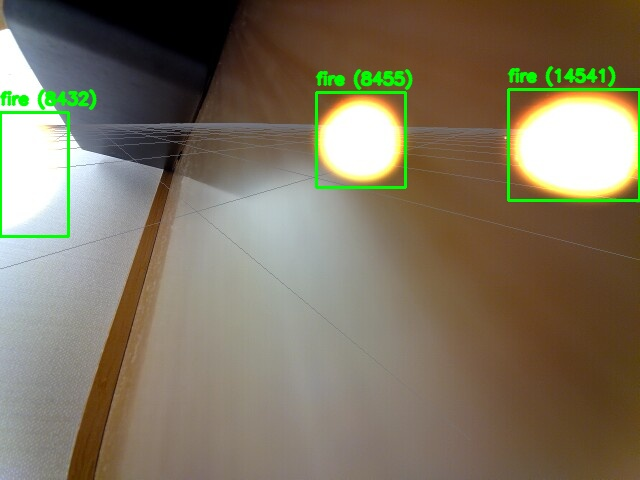fire: (508, 89, 639, 200), (316, 92, 405, 187), (0, 112, 68, 236)
